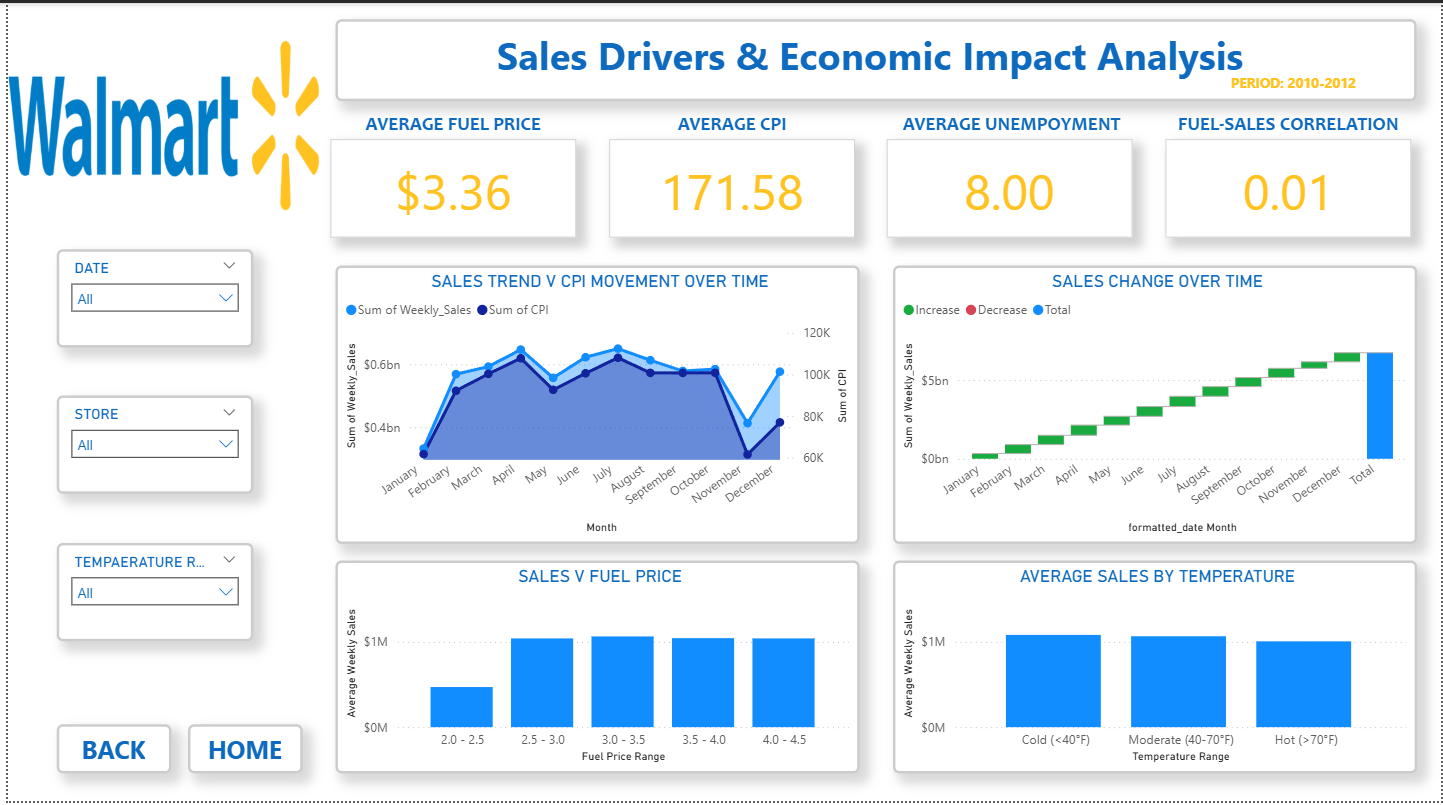

The page's visual inventory and layout, read from the dashboard file:
{"tool":"powerbi","page":{"name":"Page 3","canvas":[1400,780],"ordinal":2},"visuals":[{"type":"textbox","box":[320,16,1056,80],"z":0},{"type":"cardVisual","fields":{"Data":["Avg(walmart-sales-cleaned.Fuel_Price)"]},"box":[315,133.2,240,96],"z":0,"group":"g1"},{"type":"cardVisual","fields":{"Data":["Avg(walmart-sales-cleaned.CPI)"]},"box":[587,133.2,240,96],"z":0,"group":"g2"},{"type":"cardVisual","fields":{"Data":["Avg(walmart-sales-cleaned.Unemployment)"]},"box":[859,133.2,240,96],"z":0,"group":"g3"},{"type":"cardVisual","fields":{"Data":["walmart-sales-cleaned.Fuel Sales Correlation"]},"box":[1131,133.2,240,96],"z":0,"group":"g4"},{"type":"textbox","box":[1136,64,240,32],"z":1000},{"type":"textbox","box":[315,101.2,240,48],"z":1000,"group":"g1"},{"type":"textbox","box":[587,101.2,240,48],"z":1000,"group":"g2"},{"type":"textbox","box":[859,101.2,240,48],"z":1000,"group":"g3"},{"type":"textbox","box":[1131,101.2,240,48],"z":1000,"group":"g4"},{"type":"image","box":[0,32,304,176],"z":2000},{"type":"group","id":"g1","title":"Group 1","box":[315,101.2,240,128],"z":3000},{"type":"group","id":"g2","title":"Group 2","box":[587,101.2,240,128],"z":4000},{"type":"group","id":"g3","title":"Group 3","box":[859,101.2,240,128],"z":5000},{"type":"lineChart","title":"SALES TREND V CPI MOVEMENT OVER TIME","fields":{"Category":["walmart-sales-cleaned.formatted_date.Variation.Date Hierarchy.Month"],"Y":["Sum(walmart-sales-cleaned.Weekly_Sales)"],"Y2":["Sum(walmart-sales-cleaned.CPI)"]},"box":[320,256,512,272],"z":6000},{"type":"columnChart","title":"SALES V FUEL PRICE","fields":{"Category":["walmart-sales-cleaned.Fuel Price Range"],"Y":["walmart-sales-cleaned.Average Weekly Sales"]},"box":[320,544,512,208],"z":7000},{"type":"columnChart","title":"AVERAGE SALES BY TEMPERATURE","fields":{"Y":["walmart-sales-cleaned.Average Weekly Sales"],"Category":["walmart-sales-cleaned.Temperature Range"]},"box":[864,544,512,208],"z":8000},{"type":"group","id":"g4","title":"Group 4","box":[1131,101.2,240,128],"z":9000},{"type":"waterfallChart","title":"SALES CHANGE OVER TIME","fields":{"Y":["Sum(walmart-sales-cleaned.Weekly_Sales)"],"Category":["walmart-sales-cleaned.formatted_date.Variation.Date Hierarchy.Month"]},"box":[864,256,512,272],"z":10000},{"type":"slicer","fields":{"Values":["walmart-sales-cleaned.formatted_date"]},"box":[48,240,192,96],"z":11000},{"type":"slicer","fields":{"Values":["walmart-sales-cleaned.Store"]},"box":[48,384,192,96],"z":12000},{"type":"slicer","fields":{"Values":["walmart-sales-cleaned.Temperature Range"]},"box":[48,528,192,96],"z":13000},{"type":"actionButton","box":[48,704,112,48],"z":13001},{"type":"actionButton","box":[176,704,112,48],"z":13002}]}

Visuals, with their boxes in screenshot pixels (x1, y1, x2, y2), scaled from the page's 1400x780 canvas onto the 1443x805 screenshot:
textbox: <box>330,17,1418,99</box>
cardVisual - Avg(walmart-sales-cleaned.Fuel_Price): <box>325,137,572,237</box>
cardVisual - Avg(walmart-sales-cleaned.CPI): <box>605,137,852,237</box>
cardVisual - Avg(walmart-sales-cleaned.Unemployment): <box>885,137,1133,237</box>
cardVisual - walmart-sales-cleaned.Fuel Sales Correlation: <box>1166,137,1413,237</box>
textbox: <box>1171,66,1418,99</box>
textbox: <box>325,104,572,154</box>
textbox: <box>605,104,852,154</box>
textbox: <box>885,104,1133,154</box>
textbox: <box>1166,104,1413,154</box>
image: <box>0,33,313,215</box>
"Group 1" group: <box>325,104,572,237</box>
"Group 2" group: <box>605,104,852,237</box>
"Group 3" group: <box>885,104,1133,237</box>
"SALES TREND V CPI MOVEMENT OVER TIME" lineChart: <box>330,264,858,545</box>
"SALES V FUEL PRICE" columnChart: <box>330,561,858,776</box>
"AVERAGE SALES BY TEMPERATURE" columnChart: <box>891,561,1418,776</box>
"Group 4" group: <box>1166,104,1413,237</box>
"SALES CHANGE OVER TIME" waterfallChart: <box>891,264,1418,545</box>
slicer - walmart-sales-cleaned.formatted_date: <box>49,248,247,347</box>
slicer - walmart-sales-cleaned.Store: <box>49,396,247,495</box>
slicer - walmart-sales-cleaned.Temperature Range: <box>49,545,247,644</box>
actionButton: <box>49,727,165,776</box>
actionButton: <box>181,727,297,776</box>
